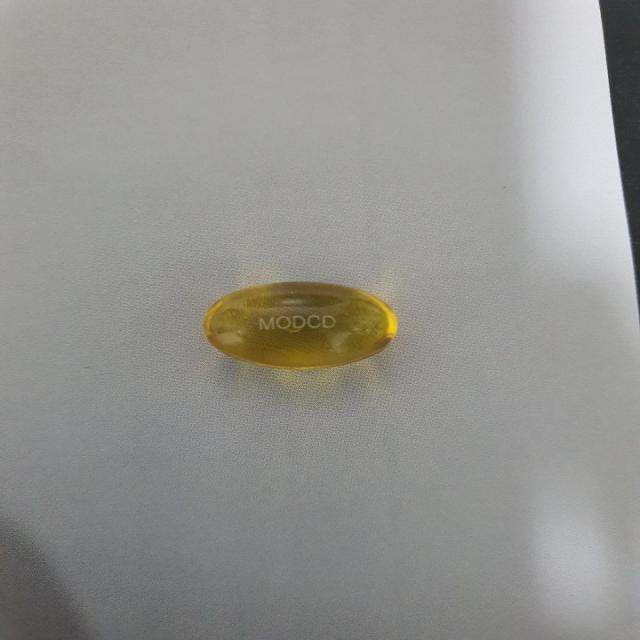pill: (193, 276, 407, 372)
